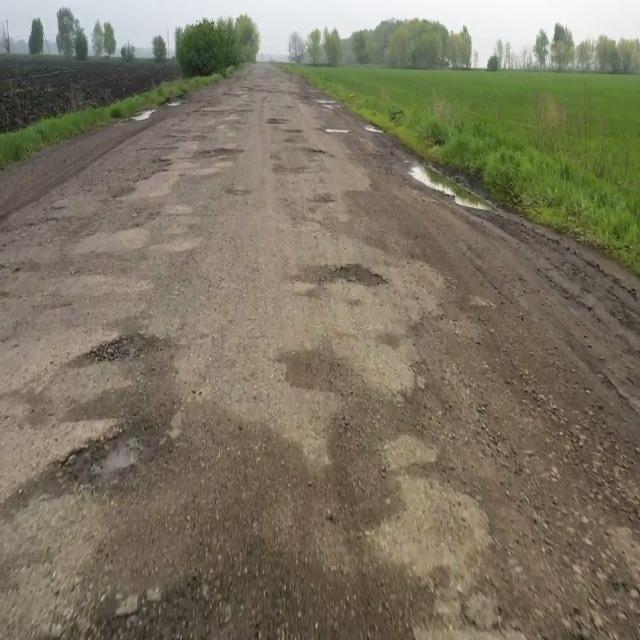Pothole: (404, 145, 488, 251), (57, 430, 172, 490), (63, 324, 167, 374), (190, 126, 231, 197), (127, 158, 199, 184)
